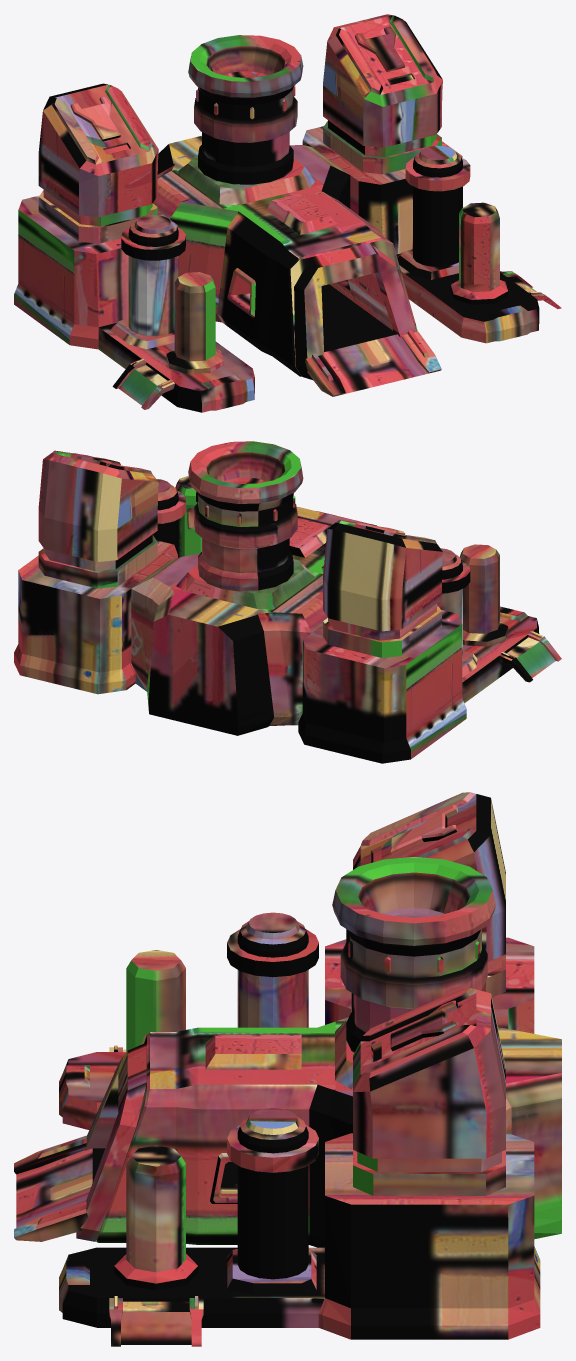
The model's file is factory_from_starcraf_1207155626.obj.
The picture shows the model from 3 angles, top to bottom: view 1: azimuth 30°, elevation 25°; view 2: azimuth 150°, elevation 25°; view 3: azimuth 270°, elevation 25°; orthographic projection. The views are drawn at different scales.
Visible parts, largest first — view 1: Mesh_0; view 2: Mesh_0; view 3: Mesh_0.
Boxes of the visible parts, x1,y1,x2,y2 form: Mesh_0: [14, 14, 561, 412]; Mesh_0: [14, 441, 561, 763]; Mesh_0: [14, 792, 561, 1346].
Bounding box in the file's own units: 1 × 0.5083 × 0.8064.
